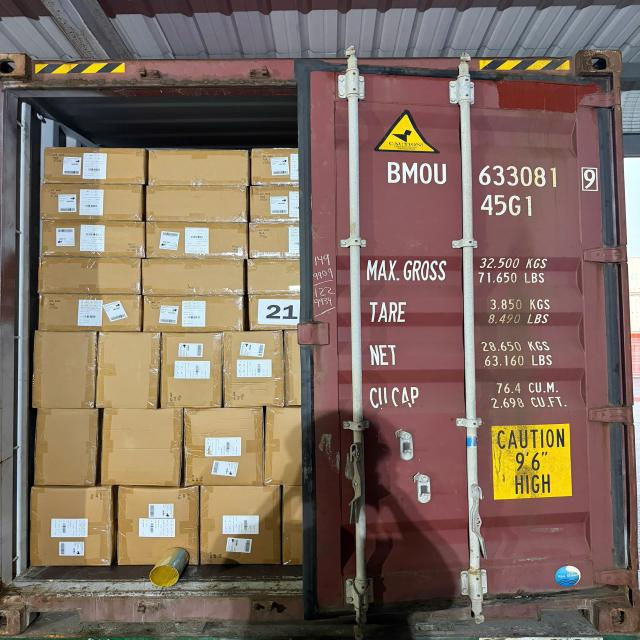Carton: (31, 485, 116, 567), (197, 484, 281, 566), (115, 486, 200, 567), (101, 405, 183, 486), (183, 405, 264, 486), (35, 409, 99, 490), (34, 327, 98, 408), (100, 332, 163, 409), (223, 329, 284, 407), (165, 332, 226, 410), (39, 219, 144, 259), (36, 293, 142, 331), (141, 260, 247, 298), (140, 294, 246, 332), (40, 185, 145, 223), (148, 222, 250, 261), (40, 147, 146, 183), (148, 188, 251, 225), (151, 147, 251, 184), (38, 260, 131, 296), (264, 410, 305, 490), (244, 258, 303, 298), (249, 288, 304, 329), (281, 488, 309, 568), (248, 185, 303, 224), (248, 222, 304, 260), (250, 149, 301, 187)
